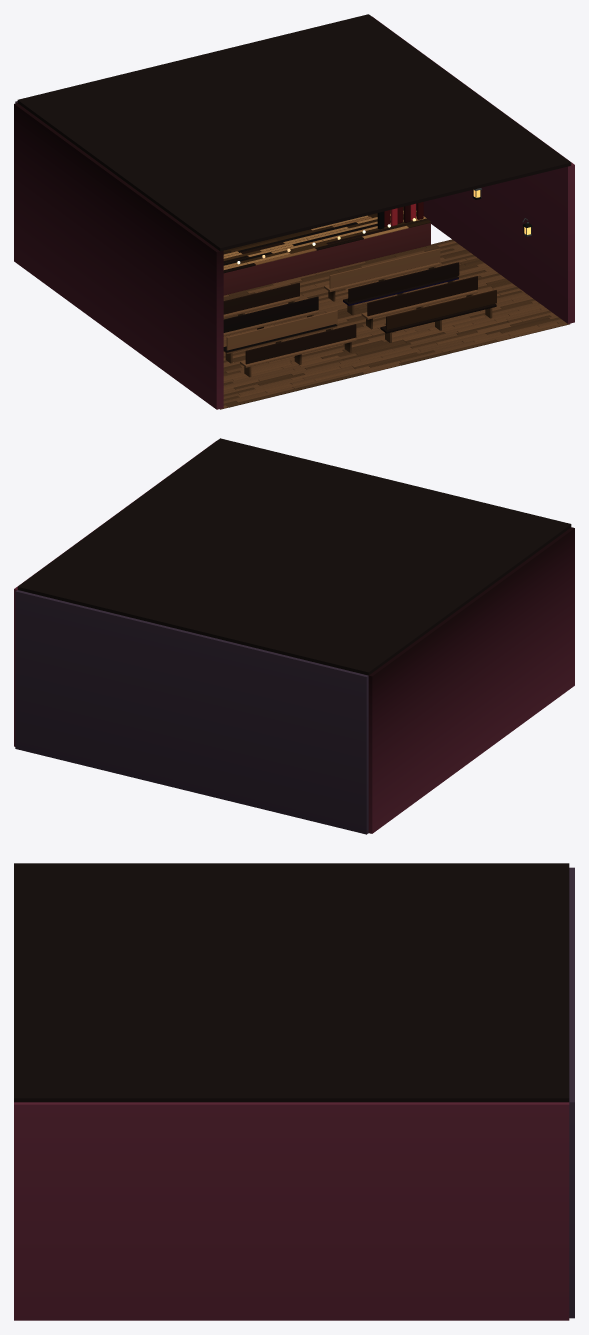
File: theatre.glb
3 views of the same model, one above another, from view 1: azimuth 30°, elevation 25°; view 2: azimuth 150°, elevation 25°; view 3: azimuth 270°, elevation 25° (orthographic). The views are drawn at different scales.
Visible parts, largest first — view 1: theatre.plaster.15, theatre.plaster.8, theatre.plank.0, theatre.plank.1, theatre.paint.5, theatre.plank.3, theatre.plank.4, theatre.fabric.10, theatre.plank.2; view 2: theatre.plaster.15, theatre.plaster.7, theatre.plaster.8; view 3: theatre.plaster.15, theatre.plaster.8, theatre.plaster.7.
Part boxes in pixels (x1,y1,x2,y2): theatre.plaster.15: [17, 14, 571, 251]; theatre.plaster.8: [14, 16, 574, 409]; theatre.plank.0: [220, 241, 569, 409]; theatre.plank.1: [223, 239, 560, 407]; theatre.paint.5: [223, 223, 430, 295]; theatre.plank.3: [223, 206, 431, 269]; theatre.plank.4: [223, 210, 416, 273]; theatre.fabric.10: [377, 202, 423, 229]; theatre.plank.2: [224, 211, 427, 270]; theatre.plaster.15: [17, 438, 571, 675]; theatre.plaster.7: [15, 590, 368, 834]; theatre.plaster.8: [14, 441, 574, 833]; theatre.plaster.15: [14, 863, 569, 1102]; theatre.plaster.8: [14, 1102, 569, 1320]; theatre.plaster.7: [569, 867, 574, 1318].
Size of the model in its own units: 14.28 by 6.16 by 14.14.
